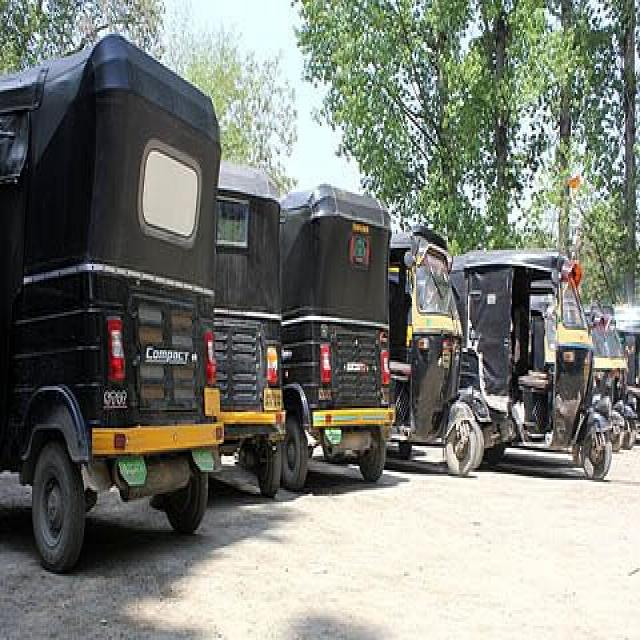autorikshaw: (3, 35, 221, 558), (442, 247, 612, 473), (282, 186, 392, 485)
